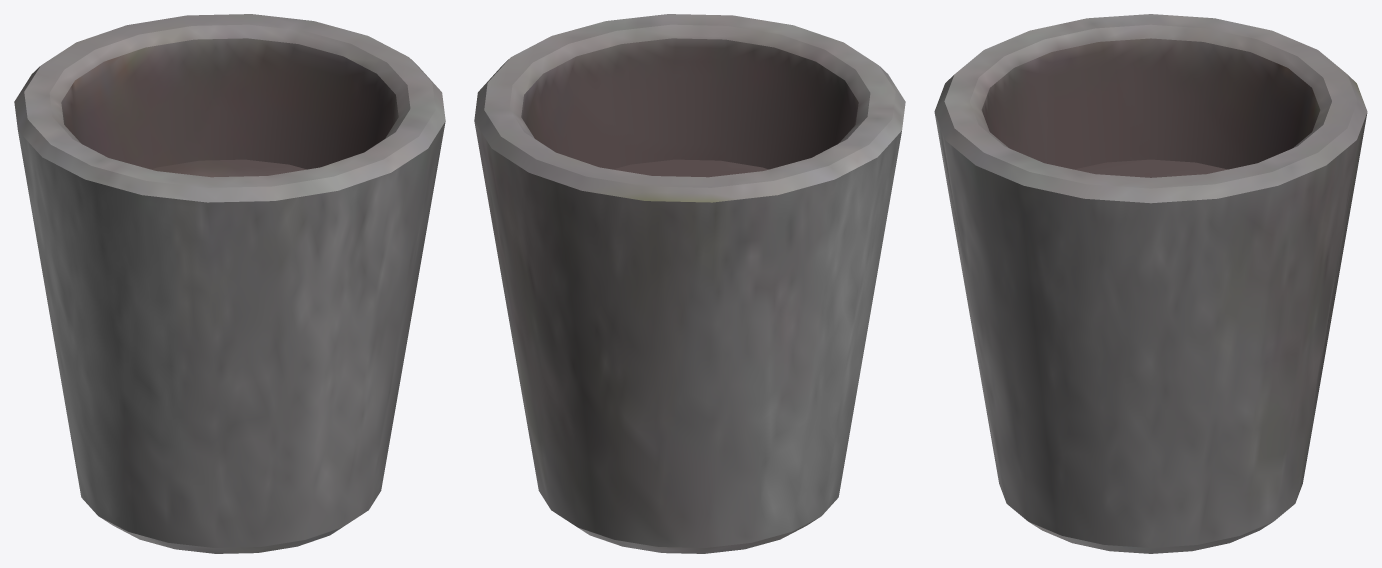
File: patrick-small-pot.glb
3 renders of one model, left to right at view 1: azimuth 30°, elevation 25°; view 2: azimuth 150°, elevation 25°; view 3: azimuth 270°, elevation 25°, orthographic.
Visible parts, largest first — view 1: Pot_02; view 2: Pot_02; view 3: Pot_02.
Boxes of the visible parts, bbox=[...] form: Pot_02: bbox=[14, 14, 445, 553]; Pot_02: bbox=[474, 14, 905, 553]; Pot_02: bbox=[934, 14, 1367, 553].
Bounding box in the file's own units: 0.00992 × 0.01 × 0.00992.
Materials: 1 (1 with a texture image).
